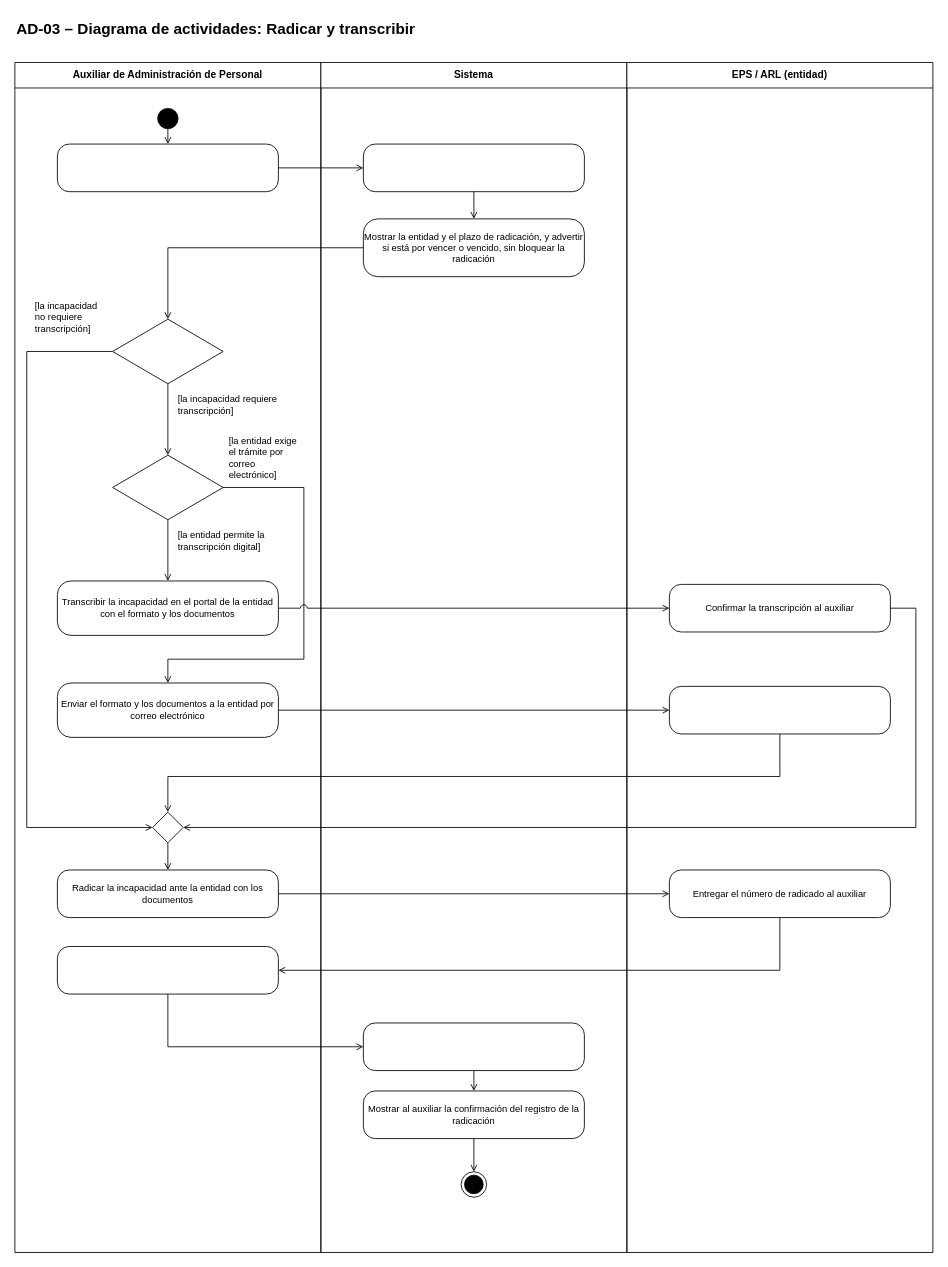
Image size: 948x1267. Some labels were removed from this diagram. The shapes that lost their labels are listed below. From the top down, each one's centre as x and y in pixels, then its label:
At pixel 167 167: "Solicitar preparar la radicación de la incapacidad".
At pixel 473 167: "Obtener los datos de la radicación y calcular el plazo para radicar".
At pixel 779 710: "Confirmar la recepción al auxiliar".
At pixel 167 970: "Registrar el radicado y la evidencia de la radicación".
At pixel 473 1046: "Guardar la radicación".
